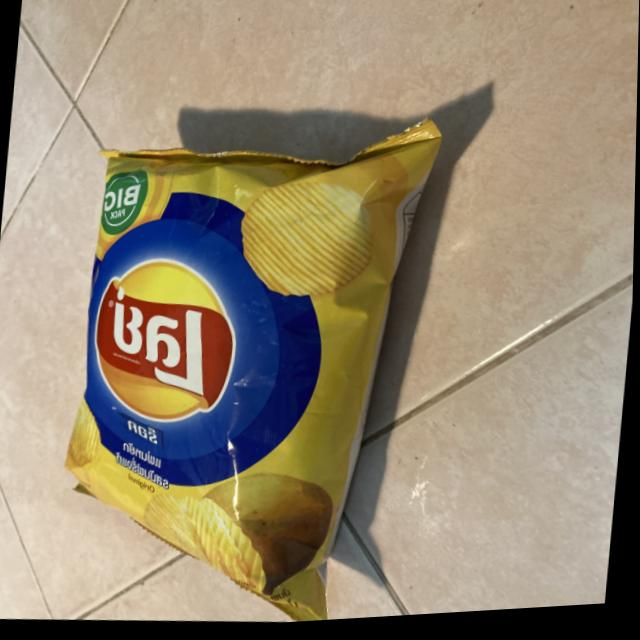LayYellow: (47, 104, 435, 635)
